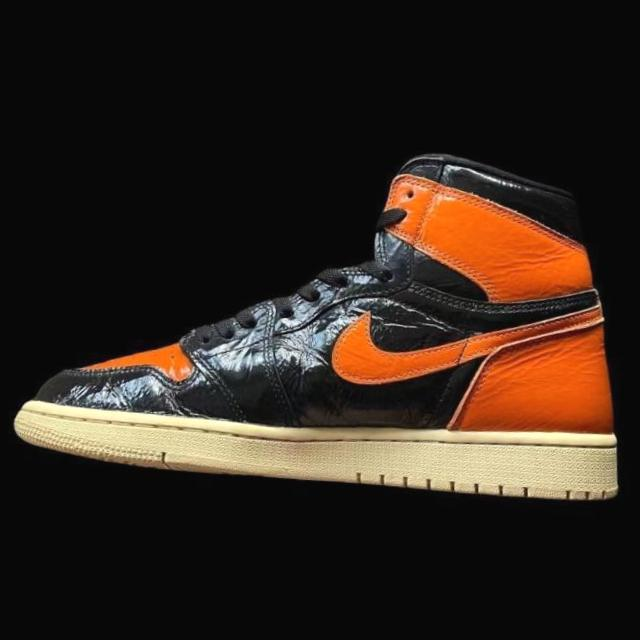nike_original_jordan: (7, 120, 640, 508)
